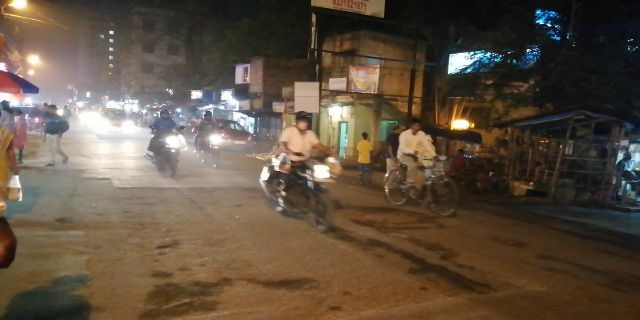Cycle: (378, 119, 460, 216)
Motorbike: (253, 107, 343, 235), (143, 107, 188, 178)
